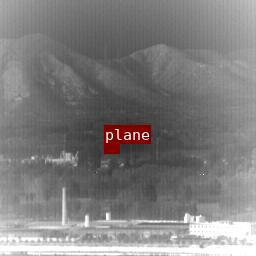plane: (104, 144, 119, 153)
